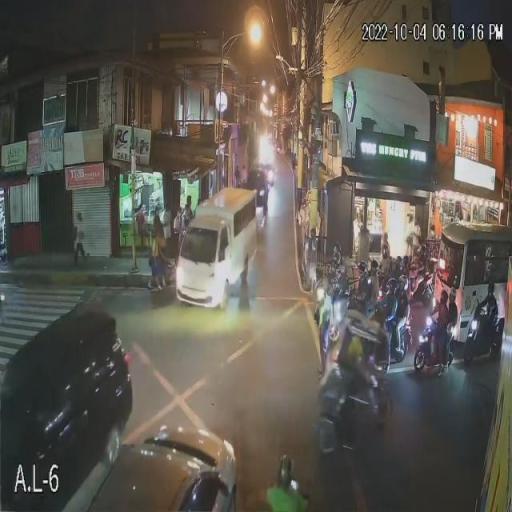helmet: (278, 454, 292, 482), (478, 283, 500, 298), (398, 274, 411, 292), (412, 245, 428, 259), (446, 286, 458, 304), (438, 291, 450, 306), (387, 276, 398, 292), (356, 260, 367, 276), (380, 245, 392, 259), (330, 252, 342, 264), (370, 260, 379, 276)
motorcycle: (412, 310, 459, 377), (375, 301, 412, 369), (312, 281, 346, 352), (340, 287, 380, 346), (463, 315, 512, 361)
rider: (468, 280, 504, 359), (266, 454, 306, 512), (431, 286, 452, 360), (382, 275, 404, 341), (324, 255, 350, 307), (354, 259, 376, 313), (413, 246, 433, 300)
